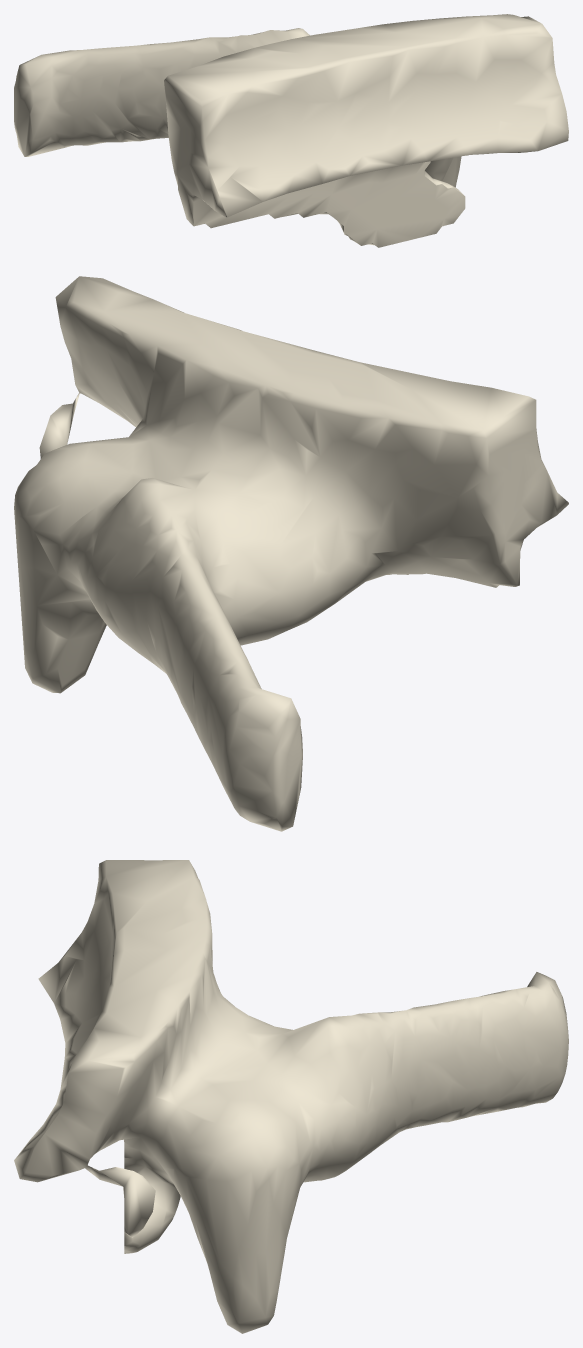
Rendered from temporal_r.glb.
The picture shows the model from 3 angles, top to bottom: view 1: azimuth 30°, elevation 25°; view 2: azimuth 150°, elevation 25°; view 3: azimuth 270°, elevation 25°; orthographic projection. The views are drawn at different scales.
Visible parts, largest first — view 1: geometry_0; view 2: geometry_0; view 3: geometry_0.
Part boxes in pixels (left/top/right/bottom): geometry_0: left=14, top=14, right=568, bottom=247; geometry_0: left=14, top=276, right=568, bottom=831; geometry_0: left=14, top=860, right=568, bottom=1333.
Bounding box in the file's own units: 0.2357 × 0.1593 × 0.269.
